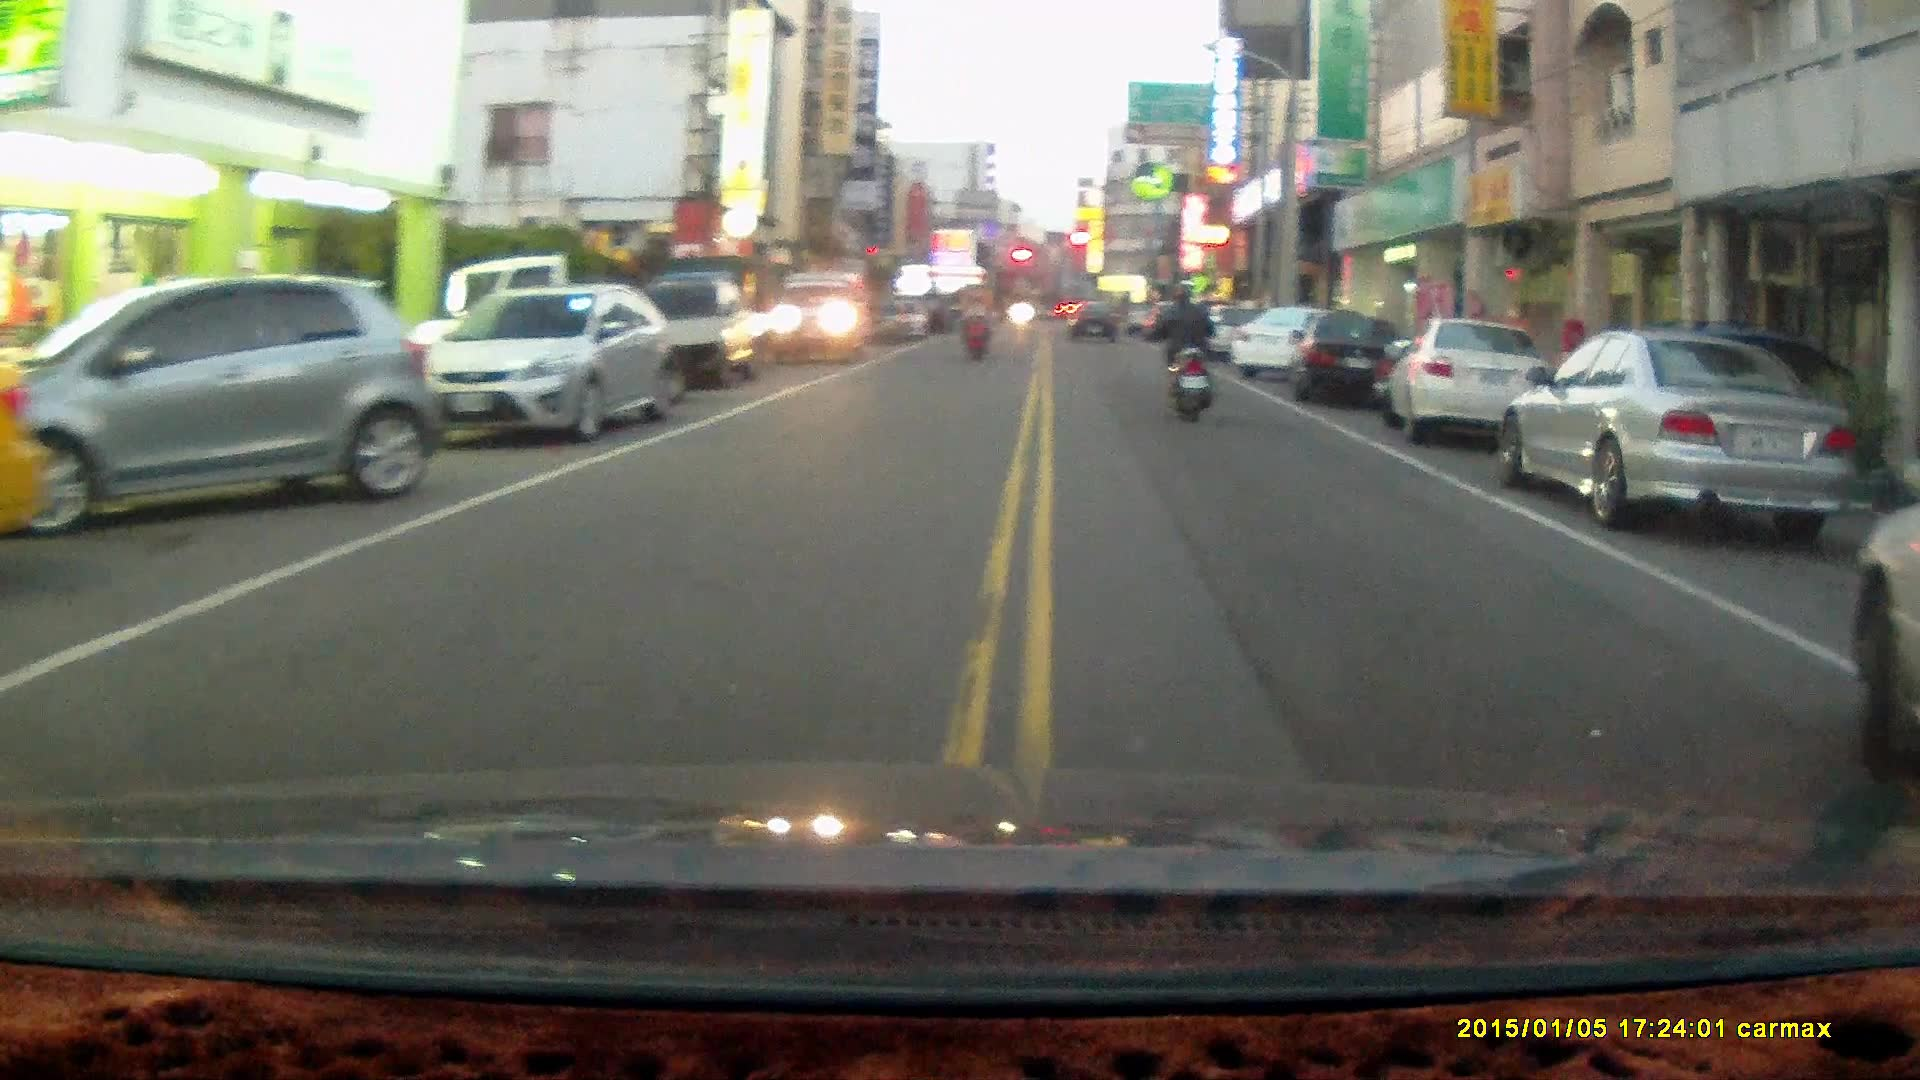rider: (1150, 281, 1219, 426), (958, 283, 989, 364)
vehicle: (12, 275, 430, 543), (1506, 324, 1864, 535), (419, 282, 680, 447), (1847, 506, 1919, 822), (1392, 317, 1559, 444), (630, 270, 775, 393), (1, 293, 51, 595), (1290, 306, 1408, 411), (775, 267, 879, 365)
